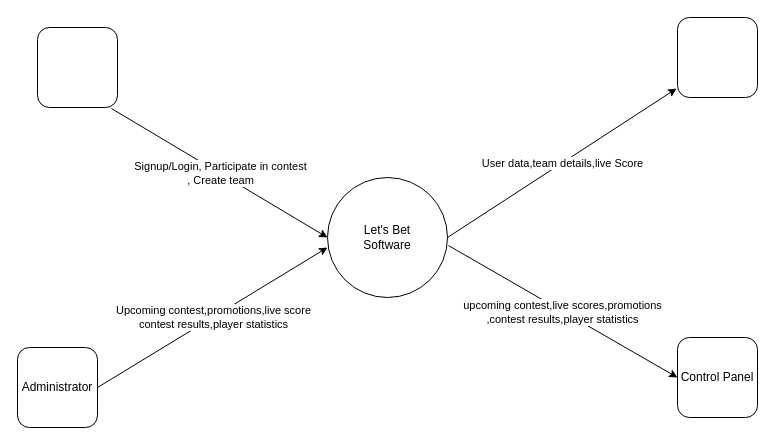
The diagram is 775 pixels wide and 445 high, and some of its shapes have lost their labels. The shapes that lost their labels are listed below. From the top down, each one's centre as x and y in pixels, then its label:
the point at 77,67: Users
the point at 717,57: User Panel
